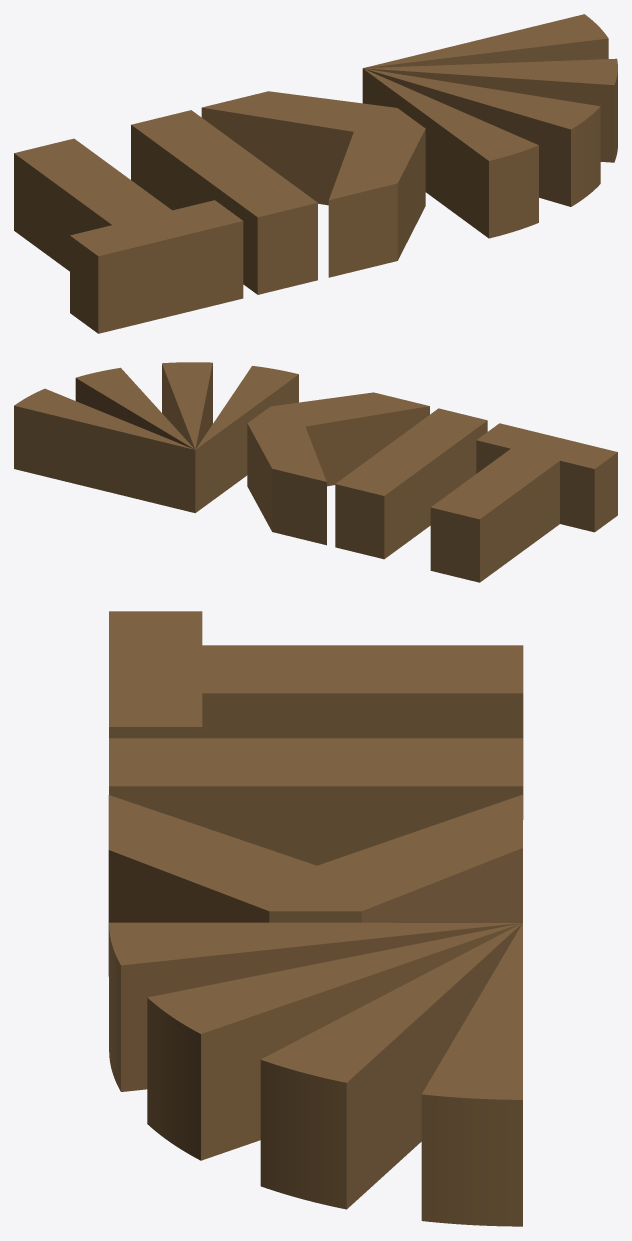
The model's file is BTy_joint_visu.dae.
3 views of the same model, one above another, from view 1: azimuth 30°, elevation 25°; view 2: azimuth 150°, elevation 25°; view 3: azimuth 270°, elevation 25° (orthographic). The views are drawn at different scales.
Visible parts, largest first — view 1: node; view 2: node; view 3: node.
Boxes of the visible parts, box(x1,y1,x2,y2) form: node: box(14, 14, 617, 333); node: box(14, 362, 617, 582); node: box(108, 611, 523, 1226).
Size of the model in its own units: 0.0866 by 0.0105 by 0.031.
